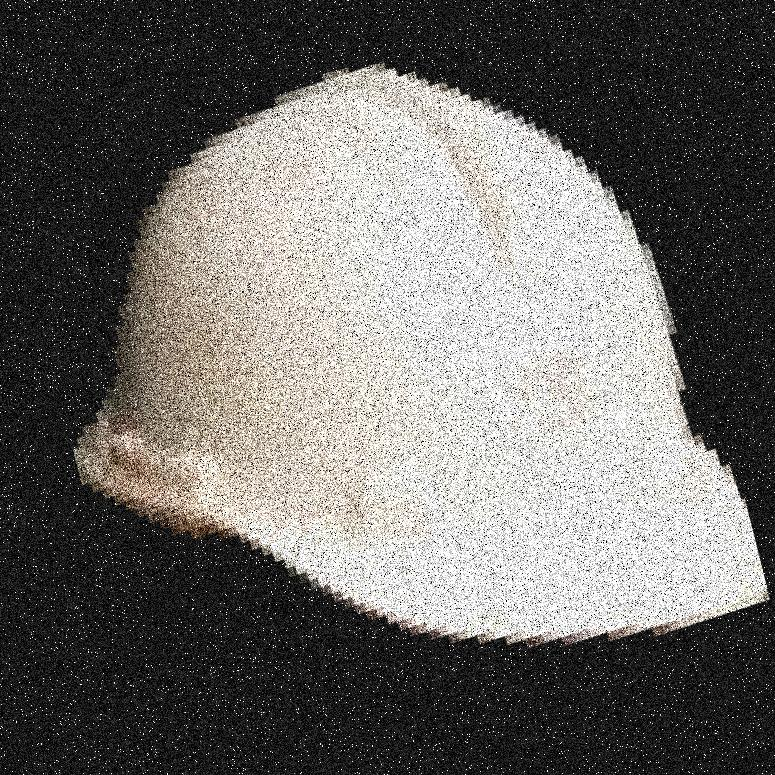Capacete: (278, 0, 774, 774)
